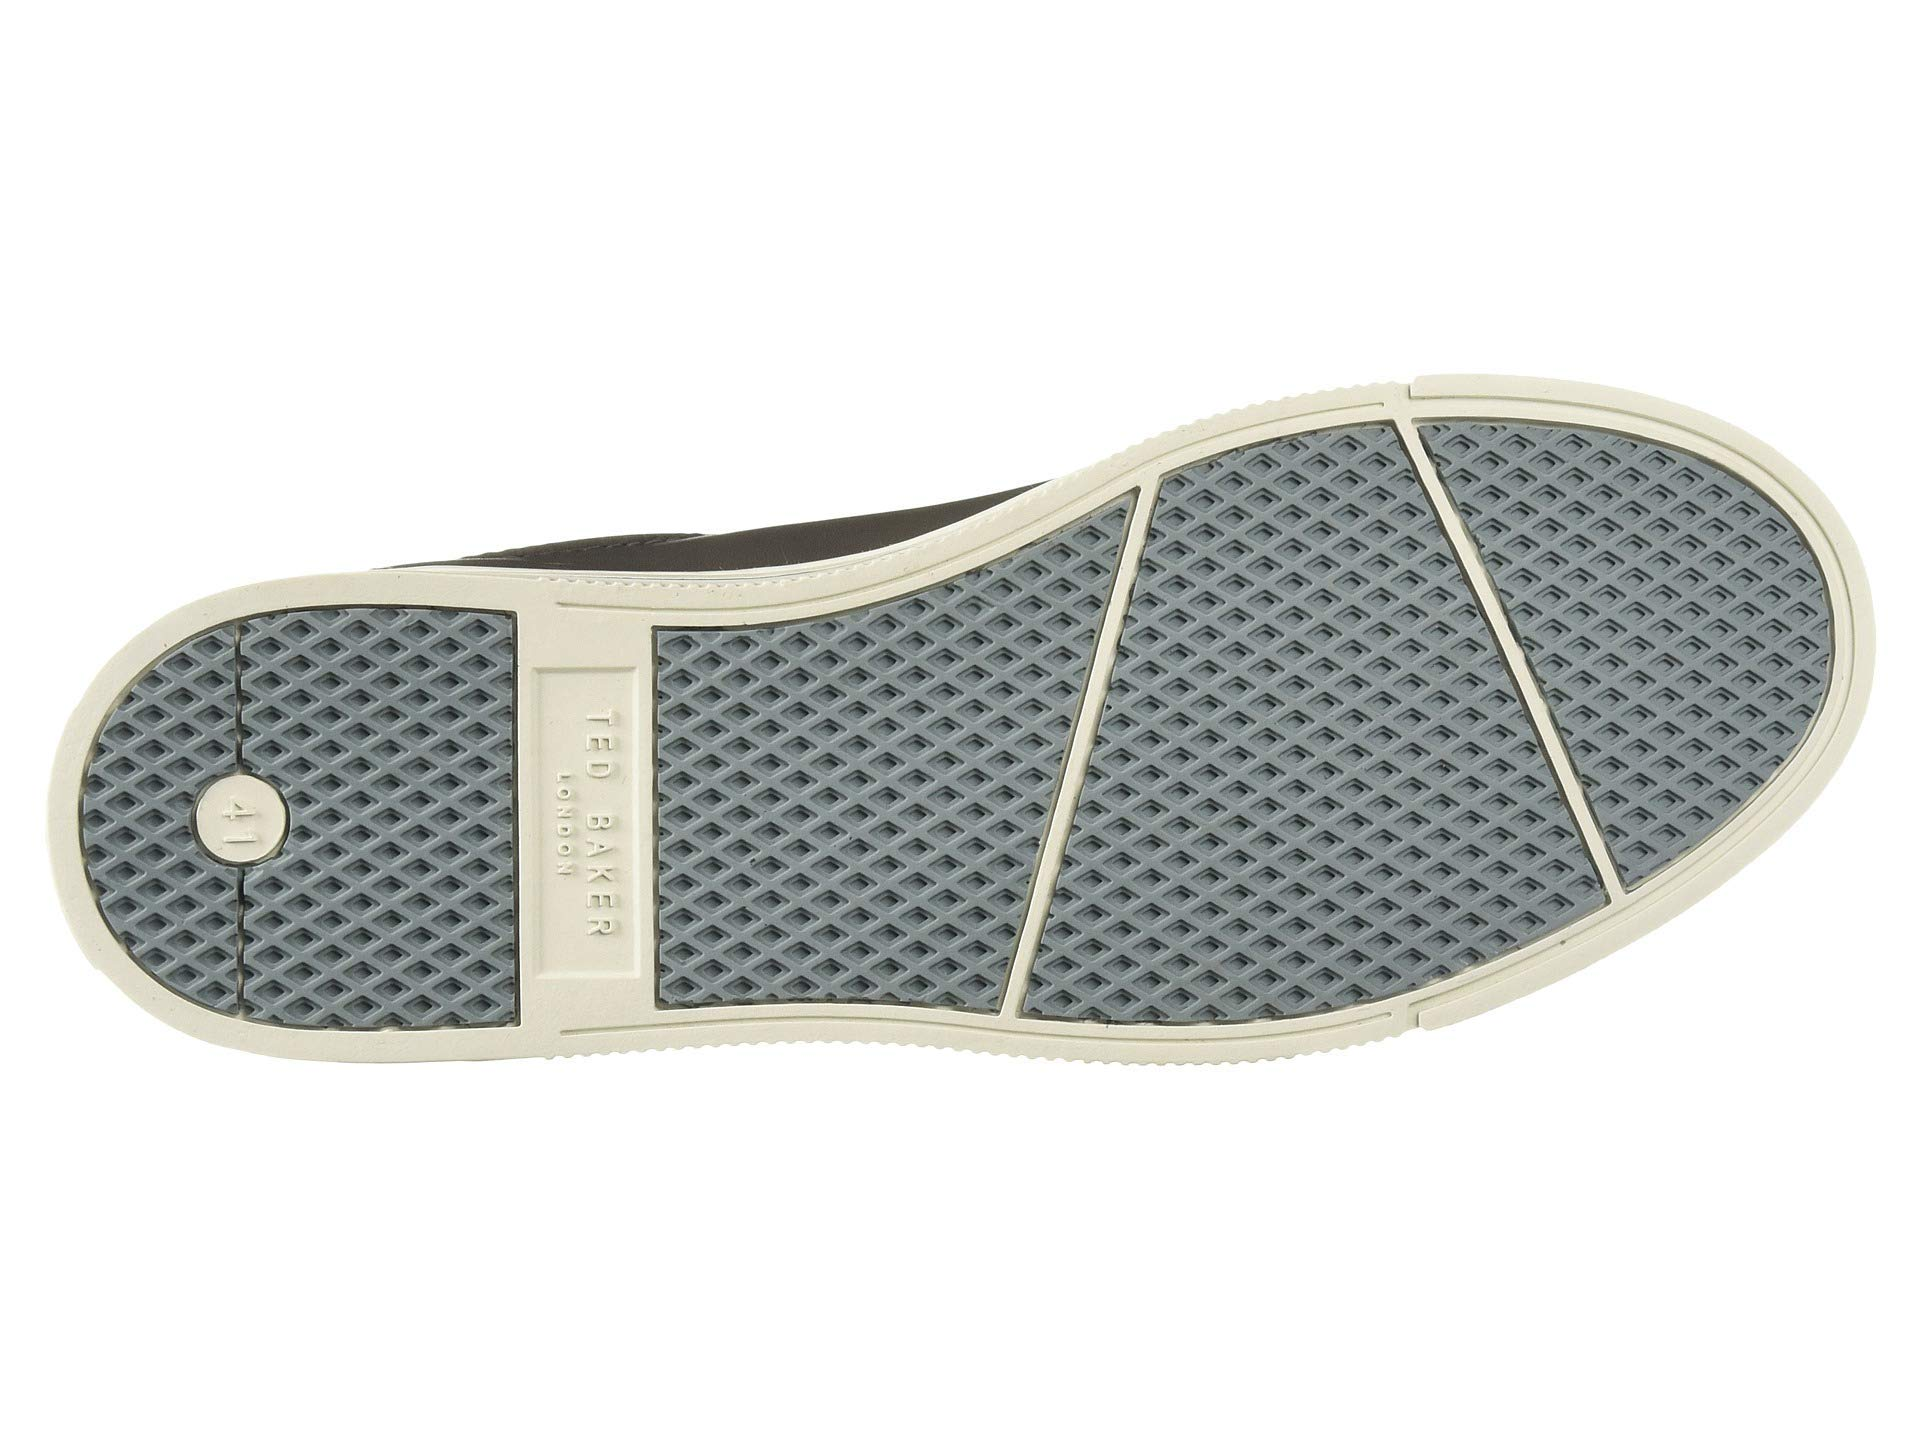circle: (124, 697, 463, 954)
exclude: (366, 358, 1090, 582)
line: (1297, 504, 1668, 865), (904, 596, 1250, 939)
quad: (1297, 504, 1668, 865), (904, 596, 1250, 939), (124, 697, 463, 954), (513, 650, 646, 988)
text: (124, 697, 463, 954), (513, 650, 646, 988)
